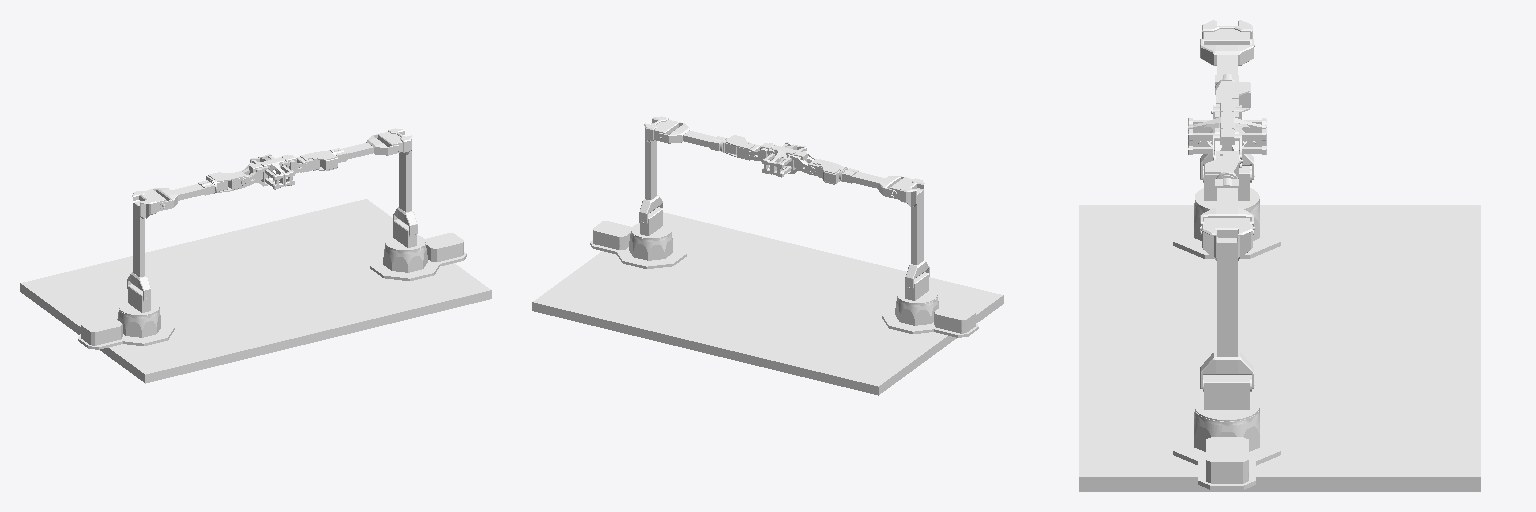
--- Render facts (derived) ---
Views: 3 orthographic renders of the robot side by side, from view 1: azimuth 30°, elevation 25°; view 2: azimuth 150°, elevation 25°; view 3: azimuth 270°, elevation 25°.
Model converted_robot with 43 links and 42 joints (16 revolute, 26 fixed), rooted at world, posed all joints at 0.
Links seen in each view (by area): view 1: table, vx300s_right, vx300s_left, vx300s_left/upper_arm_link, vx300s_right/upper_arm_link, vx300s_left/upper_forearm_link, vx300s_right/upper_forearm_link, vx300s_right/shoulder_link, vx300s_left/shoulder_link, vx300s_right/lower_forearm_link, vx300s_left/lower_forearm_link; view 2: table, vx300s_right, vx300s_left, vx300s_left/upper_arm_link, vx300s_right/upper_arm_link, vx300s_right/upper_forearm_link, vx300s_left/upper_forearm_link, vx300s_right/shoulder_link, vx300s_left/shoulder_link, vx300s_right/lower_forearm_link, vx300s_left/lower_forearm_link; view 3: table, vx300s_right, vx300s_right/upper_arm_link, vx300s_right/shoulder_link, vx300s_left, vx300s_left/gripper_link, vx300s_left/upper_arm_link, vx300s_left/upper_forearm_link, vx300s_right/upper_forearm_link, vx300s_left/shoulder_link, vx300s_right/lower_forearm_link, vx300s_left/lower_forearm_link (+1 smaller).
Link boxes in pixels (x1,y1,x2,y2): table: (20,199,491,383); vx300s_right: (370,233,466,280); vx300s_left: (78,308,174,349); vx300s_left/upper_arm_link: (127,189,166,300); vx300s_right/upper_arm_link: (377,128,417,235); vx300s_left/upper_forearm_link: (150,180,214,209); vx300s_right/upper_forearm_link: (333,134,397,162); vx300s_right/shoulder_link: (385,219,425,250); vx300s_left/shoulder_link: (119,284,159,315); vx300s_right/lower_forearm_link: (296,150,337,172); vx300s_left/lower_forearm_link: (206,171,248,193); table: (532,212,1003,395); vx300s_right: (590,221,686,268); vx300s_left: (882,296,978,337); vx300s_left/upper_arm_link: (890,177,929,288); vx300s_right/upper_arm_link: (639,116,678,223); vx300s_right/upper_forearm_link: (659,121,723,150); vx300s_left/upper_forearm_link: (842,168,906,197); vx300s_right/shoulder_link: (631,207,671,238); vx300s_left/shoulder_link: (897,272,937,303); vx300s_right/lower_forearm_link: (720,135,760,160); vx300s_left/lower_forearm_link: (808,159,847,184); table: (1079,205,1480,491); vx300s_right: (1173,409,1280,489); vx300s_right/upper_arm_link: (1200,218,1254,388); vx300s_right/shoulder_link: (1195,375,1259,421); vx300s_left: (1173,200,1280,258); vx300s_left/gripper_link: (1188,111,1266,154); vx300s_left/upper_arm_link: (1200,20,1254,179); vx300s_left/upper_forearm_link: (1200,39,1253,94); vx300s_right/upper_forearm_link: (1200,175,1253,234); vx300s_left/shoulder_link: (1195,166,1259,209); vx300s_right/lower_forearm_link: (1204,151,1242,190); vx300s_left/lower_forearm_link: (1211,78,1250,113).
Bounding box of the posed robot: 1.33 × 0.762 × 0.4923 m (x, y, z).
Meshes: 12 distinct files referenced, 23 mesh visuals loaded (12 binary STL).

robot.urdf — converted_robot:
<?xml version="1.0" ?>
<robot name="converted_robot">
   <!--generated with mjcf_urdf_simple_converter (https://github.com/Yasu31/mjcf_urdf_simple_converter)-->
   <link name="world">
      <inertial>
         <origin xyz="0.0 0.0 0.0" rpy="0.0 0.0 0.0"/>
         <mass value="0.0"/>
         <inertia ixx="0.0" iyy="0.0" izz="0.0" ixy="0" ixz="0" iyz="0"/>
      </inertial>
   </link>
   <link name="table">
      <inertial>
         <origin xyz="0.0 0.0 -0.015000000000000001" rpy="3.141592653589793 -1.5707963267948966 0.0"/>
         <mass value="27.870910883789055"/>
         <inertia ixx="4.800979286633" iyy="3.4544798400153813" izz="1.3506800832501862" ixy="0" ixz="0" iyz="0"/>
      </inertial>
      <visual name="tabletop">
         <origin xyz="0.0 0.0 -0.015000000000000001" rpy="3.141592653589793 -1.5707963267948966 0.0"/>
         <geometry>
            <mesh filename="meshes/converted_tabletop.stl"/>
         </geometry>
         <material name="white"/>
      </visual>
   </link>
   <joint type="fixed" name="world2table_fixed">
      <parent link="world"/>
      <child link="table"/>
      <origin xyz="0.0 0.6 0.0" rpy="0.0 0.0 0.0"/>
   </joint>
   <link name="midair">
      <inertial>
         <origin xyz="0.0 0.6 0.2" rpy="0.0 0.0 0.0"/>
         <mass value="0.0"/>
         <inertia ixx="0.0" iyy="0.0" izz="0.0" ixy="0" ixz="0" iyz="0"/>
      </inertial>
   </link>
   <joint type="fixed" name="world2midair_fixed">
      <parent link="world"/>
      <child link="midair"/>
      <origin xyz="0.0 0.6 0.2" rpy="0.0 0.0 0.0"/>
   </joint>
   <link name="vx300s_left">
      <inertial>
         <origin xyz="-0.03784382902588578 2.8602218040311562e-08 0.02913398715850308" rpy="0.0 -1.542175771520014 3.141592653589793"/>
         <mass value="2.0847071932290793"/>
         <inertia ixx="0.012833192082346331" iyy="0.010945761787034795" izz="0.003713297010020567" ixy="0" ixz="0" iyz="0"/>
      </inertial>
      <visual name="vx300s_1_base">
         <origin xyz="-0.03784382902588578 2.8602218040311562e-08 0.02913398715850308" rpy="0.0 -1.542175771520014 3.141592653589793"/>
         <geometry>
            <mesh filename="meshes/converted_vx300s_1_base.stl"/>
         </geometry>
         <material name="white"/>
      </visual>
   </link>
   <joint type="fixed" name="world2vx300s_left_fixed">
      <parent link="world"/>
      <child link="vx300s_left"/>
      <origin xyz="-0.469 0.5 0.0" rpy="0.0 0.0 0.0"/>
   </joint>
   <link name="vx300s_left/shoulder_link">
      <inertial>
         <origin xyz="0.000259233 -3.3552e-06 0.0116129" rpy="1.5700255645350394 -1.4773483355619266 -3.140821891329936"/>
         <mass value="0.798614"/>
         <inertia ixx="0.00120156" iyy="0.00113744" izz="0.0009388" ixy="0" ixz="0" iyz="0"/>
      </inertial>
      <visual name="vx300s_2_shoulder">
         <origin xyz="0.0006325719563753528 7.750435013387896e-11 0.02039145786401413" rpy="-1.5707963267948966 -1.5707963267948966 0.0"/>
         <geometry>
            <mesh filename="meshes/converted_vx300s_2_shoulder.stl"/>
         </geometry>
         <material name="white"/>
      </visual>
   </link>
   <link name="vx300s_left/waist_jointbody">
      <inertial>
         <origin xyz="0.0 0.0 0.0" rpy="0.0 0.0 0.0"/>
         <mass value="0.001"/>
         <inertia ixx="1e-09" iyy="1e-09" izz="1e-09" ixy="0" ixz="0" iyz="0"/>
      </inertial>
   </link>
   <joint type="revolute" name="vx300s_left/waist">
      <parent link="vx300s_left"/>
      <child link="vx300s_left/waist_jointbody"/>
      <origin xyz="0.0 0.0 0.079" rpy="0.0 0.0 0.0"/>
      <axis xyz="0.0 0.0 1.0"/>
      <limit lower="-3.14158" upper="3.14158" effort="100" velocity="100"/>
   </joint>
   <joint type="fixed" name="vx300s_left/waist_offset">
      <parent link="vx300s_left/waist_jointbody"/>
      <child link="vx300s_left/shoulder_link"/>
      <origin xyz="-0.0 -0.0 -0.0" rpy="0.0 0.0 0.0"/>
   </joint>
   <link name="vx300s_left/upper_arm_link">
      <inertial>
         <origin xyz="0.0206949 4e-10 0.226459" rpy="0.0 -0.14582079239240509 3.141592653589793"/>
         <mass value="0.792592"/>
         <inertia ixx="0.00911338" iyy="0.008925" izz="0.000759317" ixy="0" ixz="0" iyz="0"/>
      </inertial>
      <visual name="vx300s_3_upper_arm">
         <origin xyz="0.01879484718495746 1.0688876592918973e-09 0.20381388688857144" rpy="0.0 -0.1374703277880469 3.141592653589793"/>
         <geometry>
            <mesh filename="meshes/converted_vx300s_3_upper_arm.stl"/>
         </geometry>
         <material name="white"/>
      </visual>
   </link>
   <link name="vx300s_left/shoulder_jointbody">
      <inertial>
         <origin xyz="0.0 0.0 0.0" rpy="0.0 0.0 0.0"/>
         <mass value="0.001"/>
         <inertia ixx="1e-09" iyy="1e-09" izz="1e-09" ixy="0" ixz="0" iyz="0"/>
      </inertial>
   </link>
   <joint type="revolute" name="vx300s_left/shoulder">
      <parent link="vx300s_left/shoulder_link"/>
      <child link="vx300s_left/shoulder_jointbody"/>
      <origin xyz="0.0 0.0 0.04805" rpy="0.0 0.0 0.0"/>
      <axis xyz="0.0 1.0 0.0"/>
      <limit lower="-1.85005" upper="1.25664" effort="100" velocity="100"/>
   </joint>
   <joint type="fixed" name="vx300s_left/shoulder_offset">
      <parent link="vx300s_left/shoulder_jointbody"/>
      <child link="vx300s_left/upper_arm_link"/>
      <origin xyz="-0.0 -0.0 -0.0" rpy="0.0 0.0 0.0"/>
   </joint>
   <link name="vx300s_left/upper_forearm_link">
      <inertial>
         <origin xyz="0.105723 0.0 0.0" rpy="1.1374668575171039 -1.5553008182372066 2.0198960909557155"/>
         <mass value="0.322228"/>
         <inertia ixx="0.00144107" iyy="0.00134228" izz="0.000152047" ixy="0" ixz="0" iyz="0"/>
      </inertial>
      <visual name="vx300s_4_upper_forearm">
         <origin xyz="0.09150298272232402 4.669695453248377e-08 5.3351891878143013e-08" rpy="1.7079488359161843e-06 -1.5707947270180007 -3.1415926535509184"/>
         <geometry>
            <mesh filename="meshes/converted_vx300s_4_upper_forearm.stl"/>
         </geometry>
         <material name="white"/>
      </visual>
   </link>
   <link name="vx300s_left/elbow_jointbody">
      <inertial>
         <origin xyz="0.0 0.0 0.0" rpy="0.0 0.0 0.0"/>
         <mass value="0.001"/>
         <inertia ixx="1e-09" iyy="1e-09" izz="1e-09" ixy="0" ixz="0" iyz="0"/>
      </inertial>
   </link>
   <joint type="revolute" name="vx300s_left/elbow">
      <parent link="vx300s_left/upper_arm_link"/>
      <child link="vx300s_left/elbow_jointbody"/>
      <origin xyz="0.05955 0.0 0.3" rpy="0.0 0.0 0.0"/>
      <axis xyz="0.0 1.0 0.0"/>
      <limit lower="-1.76278" upper="1.6057" effort="100" velocity="100"/>
   </joint>
   <joint type="fixed" name="vx300s_left/elbow_offset">
      <parent link="vx300s_left/elbow_jointbody"/>
      <child link="vx300s_left/upper_forearm_link"/>
      <origin xyz="-0.0 -0.0 -0.0" rpy="0.0 0.0 0.0"/>
   </joint>
   <link name="vx300s_left/lower_forearm_link">
      <inertial>
         <origin xyz="0.0513477 0.00680462 0.0" rpy="0.22582711793583052 1.5707963267948966 0.0"/>
         <mass value="0.414823"/>
         <inertia ixx="0.0005911" iyy="0.000546493" izz="0.000155707" ixy="0" ixz="0" iyz="0"/>
      </inertial>
      <visual name="vx300s_5_lower_forearm">
         <origin xyz="0.046863465778959855 0.006061610481320571 -3.606874328682953e-06" rpy="-1.7440697971477959 1.569683890548875 -1.9146386257440273"/>
         <geometry>
            <mesh filename="meshes/converted_vx300s_5_lower_forearm.stl"/>
         </geometry>
         <material name="white"/>
      </visual>
   </link>
   <link name="vx300s_left/forearm_roll_jointbody">
      <inertial>
         <origin xyz="0.0 0.0 0.0" rpy="0.0 0.0 0.0"/>
         <mass value="0.001"/>
         <inertia ixx="1e-09" iyy="1e-09" izz="1e-09" ixy="0" ixz="0" iyz="0"/>
      </inertial>
   </link>
   <joint type="revolute" name="vx300s_left/forearm_roll">
      <parent link="vx300s_left/upper_forearm_link"/>
      <child link="vx300s_left/forearm_roll_jointbody"/>
      <origin xyz="0.2 0.0 0.0" rpy="0.0 0.0 0.0"/>
      <axis xyz="1.0 0.0 0.0"/>
      <limit lower="-3.14158" upper="3.14158" effort="100" velocity="100"/>
   </joint>
   <joint type="fixed" name="vx300s_left/forearm_roll_offset">
      <parent link="vx300s_left/forearm_roll_jointbody"/>
      <child link="vx300s_left/lower_forearm_link"/>
      <origin xyz="-0.0 -0.0 -0.0" rpy="0.0 0.0 0.0"/>
   </joint>
   <link name="vx300s_left/wrist_link">
      <inertial>
         <origin xyz="0.046743 -7.6652e-06 0.010565" rpy="0.008277755597094094 -1.1517912606217704 3.138606936598997"/>
         <mass value="0.115395"/>
         <inertia ixx="5.45707e-05" iyy="4.63101e-05" izz="4.32692e-05" ixy="0" ixz="0" iyz="0"/>
      </inertial>
      <visual name="vx300s_6_wrist">
         <origin xyz="0.04164133231863641 -0.00016056442250253158 0.00784793199347111" rpy="0.0 -1.3314861466609826 3.141592653589793"/>
         <geometry>
            <mesh filename="meshes/converted_vx300s_6_wrist.stl"/>
         </geometry>
         <material name="white"/>
      </visual>
   </link>
   <link name="vx300s_left/wrist_angle_jointbody">
      <inertial>
         <origin xyz="0.0 0.0 0.0" rpy="0.0 0.0 0.0"/>
         <mass value="0.001"/>
         <inertia ixx="1e-09" iyy="1e-09" izz="1e-09" ixy="0" ixz="0" iyz="0"/>
      </inertial>
   </link>
   <joint type="revolute" name="vx300s_left/wrist_angle">
      <parent link="vx300s_left/lower_forearm_link"/>
      <child link="vx300s_left/wrist_angle_jointbody"/>
      <origin xyz="0.1 0.0 0.0" rpy="0.0 0.0 0.0"/>
      <axis xyz="0.0 1.0 0.0"/>
      <limit lower="-1.8675" upper="2.23402" effort="100" velocity="100"/>
   </joint>
   <joint type="fixed" name="vx300s_left/wrist_angle_offset">
      <parent link="vx300s_left/wrist_angle_jointbody"/>
      <child link="vx300s_left/wrist_link"/>
      <origin xyz="-0.0 -0.0 -0.0" rpy="0.0 0.0 0.0"/>
   </joint>
   <link name="vx300s_left/gripper_link">
      <inertial>
         <origin xyz="0.0395662 -2.56311e-07 0.00400649" rpy="1.5696062015365904 -1.0024837628865453 0.000953641922889048"/>
         <mass value="0.251652"/>
         <inertia ixx="0.000689546" iyy="0.000650316" izz="0.000468142" ixy="0" ixz="0" iyz="0"/>
      </inertial>
      <visual name="vx300s_7_gripper">
         <origin xyz="0.019865668160067514 -7.005736523051254e-09 0.010150989601905417" rpy="0.5043852668531259 0.0 1.5707963267948966"/>
         <geometry>
            <mesh filename="meshes/converted_vx300s_7_gripper.stl"/>
         </geometry>
         <material name="white"/>
      </visual>
      <visual name="vx300s_9_gripper_bar">
         <origin xyz="0.049328257075604384 -4.4734997897412666e-07 -0.0012095709992750946" rpy="1.570620783254074 -0.19393160010183896 -3.1415756706681535"/>
         <geometry>
            <mesh filename="meshes/converted_vx300s_9_gripper_bar.stl"/>
         </geometry>
         <material name="white"/>
      </visual>
   </link>
   <link name="vx300s_left/wrist_rotate_jointbody">
      <inertial>
         <origin xyz="0.0 0.0 0.0" rpy="0.0 0.0 0.0"/>
         <mass value="0.001"/>
         <inertia ixx="1e-09" iyy="1e-09" izz="1e-09" ixy="0" ixz="0" iyz="0"/>
      </inertial>
   </link>
   <joint type="revolute" name="vx300s_left/wrist_rotate">
      <parent link="vx300s_left/wrist_link"/>
      <child link="vx300s_left/wrist_rotate_jointbody"/>
      <origin xyz="0.069744 0.0 0.0" rpy="0.0 0.0 0.0"/>
      <axis xyz="1.0 0.0 0.0"/>
      <limit lower="-3.14158" upper="3.14158" effort="100" velocity="100"/>
   </joint>
   <joint type="fixed" name="vx300s_left/wrist_rotate_offset">
      <parent link="vx300s_left/wrist_rotate_jointbody"/>
      <child link="vx300s_left/gripper_link"/>
      <origin xyz="-0.0 -0.0 -0.0" rpy="0.0 0.0 0.0"/>
   </joint>
   <link name="vx300s_left/camera_focus">
      <inertial>
         <origin xyz="0.15 0.0 0.01" rpy="0.0 0.0 0.0"/>
         <mass value="0.0"/>
         <inertia ixx="0.0" iyy="0.0" izz="0.0" ixy="0" ixz="0" iyz="0"/>
      </inertial>
   </link>
   <joint type="fixed" name="vx300s_left/gripper_link2vx300s_left/camera_focus_fixed">
      <parent link="vx300s_left/gripper_link"/>
      <child link="vx300s_left/camera_focus"/>
      <origin xyz="0.15 0.0 0.01" rpy="0.0 0.0 0.0"/>
   </joint>
   <link name="vx300s_left/gripper_prop_link">
      <inertial>
         <origin xyz="0.002378 2.85e-08 0.0" rpy="2.229034153159594 0.0 3.141592653589793"/>
         <mass value="0.008009"/>
         <inertia ixx="4.2979e-06" iyy="2.8868e-06" izz="1.5314e-06" ixy="0" ixz="0" iyz="0"/>
      </inertial>
      <visual name="vx300s_8_gripper_prop">
         <origin xyz="0.0 0.0002406316223018793 -0.0005006405808746677" rpy="-0.055920927342721694 0.0 3.141592653589793"/>
         <geometry>
            <mesh filename="meshes/converted_vx300s_8_gripper_prop.stl"/>
         </geometry>
         <material name="white"/>
      </visual>
   </link>
   <joint type="fixed" name="vx300s_left/gripper_link2vx300s_left/gripper_prop_link_fixed">
      <parent link="vx300s_left/gripper_link"/>
      <child link="vx300s_left/gripper_prop_link"/>
      <origin xyz="0.0485 0.0 0.0" rpy="0.0 0.0 0.0"/>
   </joint>
   <link name="vx300s_left/left_finger_link">
      <inertial>
         <origin xyz="0.017344 -0.0060692 0.0" rpy="1.5707963267948966 2.220446049250313e-16 -1.7642899709575044"/>
         <mass value="0.034796"/>
         <inertia ixx="2.48003e-05" iyy="1.417e-05" izz="1.20797e-05" ixy="0" ixz="0" iyz="0"/>
      </inertial>
      <visual name="vx300s_10_gripper_finger_left">
         <origin xyz="0.024758826833880605 -0.013231640423985176 0.002021349057495323" rpy="-1.266740490927044 -0.014276180225681001 -1.6709736312279375"/>
         <geometry>
            <mesh filename="meshes/converted_vx300s_10_gripper_finger_left.stl"/>
         </geometry>
         <material name="white"/>
      </visual>
   </link>
   <link name="vx300s_left/left_finger_jointbody">
      <inertial>
         <origin xyz="0.0 0.0 0.0" rpy="0.0 0.0 0.0"/>
         <mass value="0.001"/>
         <inertia ixx="1e-09" iyy="1e-09" izz="1e-09" ixy="0" ixz="0" iyz="0"/>
      </inertial>
   </link>

    <!-- [MODIFIED] Replaced fixed gripper joints with revolute and mimic joints, ensuring correct child link -->
    <joint type="revolute" name="vx300s_left/gripper_joint">
        <parent link="vx300s_left/gripper_link"/>
        <child link="vx300s_left/left_finger_jointbody"/>
        <origin xyz="0.0687 0.0 0.0" rpy="0.0 0.0 0.0"/>
        <axis xyz="0 0 1"/>
        <limit lower="-0.03" upper="0.03" effort="10" velocity="1.0"/>
    </joint>

    <joint name="vx300s_left/right_finger_mimic_joint" type="revolute">
        <parent link="vx300s_left/gripper_link"/>
        <child link="vx300s_left/right_finger_jointbody"/>
        <origin xyz="0.0687 0.0 0.0" rpy="0.0 0.0 0.0"/>
        <axis xyz="0 0 1"/>
        <limit lower="-0.03" upper="0.03" effort="10" velocity="1.0"/>
        <mimic joint="vx300s_left/gripper_joint" multiplier="-1" offset="0"/>
    </joint>
    <!-- End of modification for left gripper -->

   <joint type="fixed" name="vx300s_left/left_finger_offset">
      <parent link="vx300s_left/left_finger_jointbody"/>
      <child link="vx300s_left/left_finger_link"/>
      <origin xyz="-0.0 -0.0 -0.0" rpy="0.0 0.0 0.0"/>
   </joint>
   <link name="vx300s_left/right_finger_link">
      <inertial>
         <origin xyz="0.017344 0.0060692 0.0" rpy="-1.5707963267948968 0.0 -1.7642678806504266"/>
         <mass value="0.034796"/>
         <inertia ixx="2.48002e-05" iyy="1.417e-05" izz="1.20798e-05" ixy="0" ixz="0" iyz="0"/>
      </inertial>
      <visual name="vx300s_10_gripper_finger_right">
         <origin xyz="0.024759026771782794 0.01323824786246524 0.0021447619367371564" rpy="-1.2670945657039128 0.011104510487408792 -1.4706258573054107"/>
         <geometry>
            <mesh filename="meshes/converted_vx300s_10_gripper_finger_right.stl"/>
         </geometry>
         <material name="white"/>
      </visual>
   </link>
   <link name="vx300s_left/right_finger_jointbody">
      <inertial>
         <origin xyz="0.0 0.0 0.0" rpy="0.0 0.0 0.0"/>
         <mass value="0.001"/>
         <inertia ixx="1e-09" iyy="1e-09" izz="1e-09" ixy="0" ixz="0" iyz="0"/>
      </inertial>
   </link>
   <joint type="fixed" name="vx300s_left/right_finger_offset">
      <parent link="vx300s_left/right_finger_jointbody"/>
      <child link="vx300s_left/right_finger_link"/>
      <origin xyz="-0.0 -0.0 -0.0" rpy="0.0 0.0 0.0"/>
   </joint>
   <link name="vx300s_right">
      <inertial>
         <origin xyz="-0.03784382902588578 2.8602218040311562e-08 0.02913398715850308" rpy="0.0 -1.542175771520014 3.141592653589793"/>
         <mass value="2.0847071932290793"/>
         <inertia ixx="0.012833192082346331" iyy="0.010945761787034795" izz="0.003713297010020567" ixy="0" ixz="0" iyz="0"/>
      </inertial>
      <visual name="vx300s_1_base">
         <origin xyz="-0.03784382902588578 2.8602218040311562e-08 0.02913398715850308" rpy="0.0 -1.542175771520014 3.141592653589793"/>
         <geometry>
            <mesh filename="meshes/converted_vx300s_1_base.stl"/>
         </geometry>
         <material name="white"/>
      </visual>
   </link>
   <joint type="fixed" name="world2vx300s_right_fixed">
      <parent link="world"/>
      <child link="vx300s_right"/>
      <origin xyz="0.469 0.5 0.0" rpy="0.0 0.0 -3.1415853071697932"/>
   </joint>
   <link name="vx300s_right/shoulder_link">
      <inertial>
         <origin xyz="0.000259233 -3.3552e-06 0.0116129" rpy="1.5700255645350394 -1.4773483355619266 -3.140821891329936"/>
         <mass value="0.798614"/>
         <inertia ixx="0.00120156" iyy="0.00113744" izz="0.0009388" ixy="0" ixz="0" iyz="0"/>
      </inertial>
      <visual name="vx300s_2_shoulder">
         <origin xyz="0.0006325719563753528 7.750435013387896e-11 0.02039145786401413" rpy="-1.5707963267948966 -1.5707963267948966 0.0"/>
         <geometry>
            <mesh filename="meshes/converted_vx300s_2_shoulder.stl"/>
         </geometry>
         <material name="white"/>
      </visual>
   </link>
   <link name="vx300s_right/waist_jointbody">
      <inertial>
         <origin xyz="0.0 0.0 0.0" rpy="0.0 0.0 0.0"/>
         <mass value="0.001"/>
         <inertia ixx="1e-09" iyy="1e-09" izz="1e-09" ixy="0" ixz="0" iyz="0"/>
      </inertial>
   </link>
   <joint type="revolute" name="vx300s_right/waist">
      <parent link="vx300s_right"/>
      <child link="vx300s_right/waist_jointbody"/>
      <origin xyz="0.0 0.0 0.079" rpy="0.0 0.0 0.0"/>
      <axis xyz="0.0 0.0 1.0"/>
      <limit lower="-3.14158" upper="3.14158" effort="100" velocity="100"/>
   </joint>
   <joint type="fixed" name="vx300s_right/waist_offset">
      <parent link="vx300s_right/waist_jointbody"/>
      <child link="vx300s_right/shoulder_link"/>
      <origin xyz="-0.0 -0.0 -0.0" rpy="0.0 0.0 0.0"/>
   </joint>
   <link name="vx300s_right/upper_arm_link">
      <inertial>
         <origin xyz="0.0206949 4e-10 0.226459" rpy="0.0 -0.14582079239240509 3.141592653589793"/>
         <mass value="0.792592"/>
         <inertia ixx="0.00911338" iyy="0.008925" izz="0.000759317" ixy="0" ixz="0" iyz="0"/>
      </inertial>
      <visual name="vx300s_3_upper_arm">
         <origin xyz="0.01879484718495746 1.0688876592918973e-09 0.20381388688857144" rpy="0.0 -0.1374703277880469 3.141592653589793"/>
         <geometry>
            <mesh filename="meshes/converted_vx300s_3_upper_arm.stl"/>
         </geometry>
         <material name="white"/>
      </visual>
   </link>
   <link name="vx300s_right/shoulder_jointbody">
      <inertial>
         <origin xyz="0.0 0.0 0.0" rpy="0.0 0.0 0.0"/>
         <mass value="0.001"/>
         <inertia ixx="1e-09" iyy="1e-09" izz="1e-09" ixy="0" ixz="0" iyz="0"/>
      </inertial>
   </link>
   <joint type="revolute" name="vx300s_right/shoulder">
      <parent link="vx300s_right/shoulder_link"/>
      <child link="vx300s_right/shoulder_jointbody"/>
      <origin xyz="0.0 0.0 0.04805" rpy="0.0 0.0 0.0"/>
      <axis xyz="0.0 1.0 0.0"/>
      <limit lower="-1.85005" upper="1.25664" effort="100" velocity="100"/>
   </joint>
   <joint type="fixed" name="vx300s_right/shoulder_offset">
      <parent link="vx300s_right/shoulder_jointbody"/>
      <child link="vx300s_right/upper_arm_link"/>
      <origin xyz="-0.0 -0.0 -0.0" rpy="0.0 0.0 0.0"/>
   </joint>
   <link name="vx300s_right/upper_forearm_link">
      <inertial>
         <origin xyz="0.105723 0.0 0.0" rpy="1.1374668575171039 -1.5553008182372066 2.0198960909557155"/>
         <mass value="0.322228"/>
         <inertia ixx="0.00144107" iyy="0.00134228" izz="0.000152047" ixy="0" ixz="0" iyz="0"/>
      </inertial>
      <visual name="vx300s_4_upper_forearm">
         <origin xyz="0.09150298272232402 4.669695453248377e-08 5.3351891878143013e-08" rpy="1.7079488359161843e-06 -1.5707947270180007 -3.1415926535509184"/>
         <geometry>
            <mesh filename="meshes/converted_vx300s_4_upper_forearm.stl"/>
         </geometry>
         <material name="white"/>
      </visual>
   </link>
   <link name="vx300s_right/elbow_jointbody">
      <inertial>
         <origin xyz="0.0 0.0 0.0" rpy="0.0 0.0 0.0"/>
         <mass value="0.001"/>
         <inertia ixx="1e-09" iyy="1e-09" izz="1e-09" ixy="0" ixz="0" iyz="0"/>
      </inertial>
   </link>
   <joint type="revolute" name="vx300s_right/elbow">
      <parent link="vx300s_right/upper_arm_link"/>
      <child link="vx300s_right/elbow_jointbody"/>
      <origin xyz="0.05955 0.0 0.3" rpy="0.0 0.0 0.0"/>
      <axis xyz="0.0 1.0 0.0"/>
      <limit lower="-1.76278" upper="1.6057" effort="100" velocity="100"/>
   </joint>
   <joint type="fixed" name="vx300s_right/elbow_offset">
      <parent link="vx300s_right/elbow_jointbody"/>
      <child link="vx300s_right/upper_forearm_link"/>
      <origin xyz="-0.0 -0.0 -0.0" rpy="0.0 0.0 0.0"/>
   </joint>
   <link name="vx300s_right/lower_forearm_link">
      <inertial>
         <origin xyz="0.0513477 0.00680462 0.0" rpy="0.22582711793583052 1.5707963267948966 0.0"/>
         <mass value="0.414823"/>
         <inertia ixx="0.0005911" iyy="0.000546493" izz="0.000155707" ixy="0" ixz="0" iyz="0"/>
      </inertial>
      <visual name="vx300s_5_lower_forearm">
         <origin xyz="0.046863465778959855 0.006061610481320571 -3.606874328682953e-06" rpy="-1.7440697971477959 1.569683890548875 -1.9146386257440273"/>
         <geometry>
            <mesh filename="meshes/converted_vx300s_5_lower_forearm.stl"/>
         </geometry>
         <material name="white"/>
      </visual>
   </link>
   <link name="vx300s_right/forearm_roll_jointbody">
      <inertial>
         <origin xyz="0.0 0.0 0.0" rpy="0.0 0.0 0.0"/>
         <mass value="0.001"/>
         <inertia ixx="1e-09" iyy="1e-09" izz="1e-09" ixy="0" ixz="0" iyz="0"/>
      </inertial>
   </link>
   <joint type="revolute" name="vx300s_right/forearm_roll">
      <parent link="vx300s_right/upper_forearm_link"/>
      <child link="vx300s_right/forearm_roll_jointbody"/>
      <origin xyz="0.2 0.0 0.0" rpy="0.0 0.0 0.0"/>
      <axis xyz="1.0 0.0 0.0"/>
      <limit lower="-3.14158" upper="3.14158" effort="100" velocity="100"/>
   </joint>
   <joint type="fixed" name="vx300s_right/forearm_roll_offset">
      <parent link="vx300s_right/forearm_roll_jointbody"/>
      <child link="vx300s_right/lower_forearm_link"/>
      <origin xyz="-0.0 -0.0 -0.0" rpy="0.0 0.0 0.0"/>
   </joint>
   <link name="vx300s_right/wrist_link">
      <inertial>
         <origin xyz="0.046743 -7.6652e-06 0.010565" rpy="0.008277755597094094 -1.1517912606217704 3.138606936598997"/>
         <mass value="0.115395"/>
         <inertia ixx="5.45707e-05" iyy="4.63101e-05" izz="4.32692e-05" ixy="0" ixz="0" iyz="0"/>
      </inertial>
      <visual name="vx300s_6_wrist">
         <origin xyz="0.04164133231863641 -0.00016056442250253158 0.00784793199347111" rpy="0.0 -1.3314861466609826 3.141592653589793"/>
         <geometry>
            <mesh filename="meshes/converted_vx300s_6_wrist.stl"/>
         </geometry>
         <material name="white"/>
      </visual>
   </link>
   <link name="vx300s_right/wrist_angle_jointbody">
      <inertial>
         <origin xyz="0.0 0.0 0.0" rpy="0.0 0.0 0.0"/>
         <mass value="0.001"/>
         <inertia ixx="1e-09" iyy="1e-09" izz="1e-09" ixy="0" ixz="0" iyz="0"/>
      </inertial>
   </link>
   <joint type="revolute" name="vx300s_right/wrist_angle">
      <parent link="vx300s_right/lower_forearm_link"/>
      <child link="vx300s_right/wrist_angle_jointbody"/>
      <origin xyz="0.1 0.0 0.0" rpy="0.0 0.0 0.0"/>
      <axis xyz="0.0 1.0 0.0"/>
      <limit lower="-1.8675" upper="2.23402" effort="100" velocity="100"/>
   </joint>
   <joint type="fixed" name="vx300s_right/wrist_angle_offset">
      <parent link="vx300s_right/wrist_angle_jointbody"/>
      <child link="vx300s_right/wrist_link"/>
      <origin xyz="-0.0 -0.0 -0.0" rpy="0.0 0.0 0.0"/>
   </joint>
   <link name="vx300s_right/gripper_link">
      <inertial>
         <origin xyz="0.0395662 -2.56311e-07 0.00400649" rpy="1.5696062015365904 -1.0024837628865453 0.000953641922889048"/>
         <mass value="0.251652"/>
         <inertia ixx="0.000689546" iyy="0.000650316" izz="0.000468142" ixy="0" ixz="0" iyz="0"/>
      </inertial>
      <visual name="vx300s_7_gripper">
         <origin xyz="0.019865668160067514 -7.005736523051254e-09 0.010150989601905417" rpy="0.5043852668531259 0.0 1.5707963267948966"/>
         <geometry>
            <mesh filename="meshes/converted_vx300s_7_gripper.stl"/>
         </geometry>
         <material name="white"/>
      </visual>
      <visual name="vx300s_9_gripper_bar">
         <origin xyz="0.049328257075604384 -4.4734997897412666e-07 -0.0012095709992750946" rpy="1.570620783254074 -0.19393160010183896 -3.1415756706681535"/>
         <geometry>
            <mesh filename="meshes/converted_vx300s_9_gripper_bar.stl"/>
         </geometry>
         <material name="white"/>
      </visual>
   </link>
   <link name="vx300s_right/wrist_rotate_jointbody">
      <inertial>
         <origin xyz="0.0 0.0 0.0" rpy="0.0 0.0 0.0"/>
         <mass value="0.001"/>
         <inertia ixx="1e-09" iyy="1e-09" izz="1e-09" ixy="0" ixz="0" iyz="0"/>
      </inertial>
   </link>
   <joint type="revolute" name="vx300s_right/wrist_rotate">
      <parent link="vx300s_right/wrist_link"/>
      <child link="vx300s_right/wrist_rotate_jointbody"/>
      <origin xyz="0.069744 0.0 0.0" rpy="0.0 0.0 0.0"/>
      <axis xyz="1.0 0.0 0.0"/>
      <limit lower="-3.14158" upper="3.14158" effort="100" velocity="100"/>
   </joint>
   <joint type="fixed" name="vx300s_right/wrist_rotate_offset">
      <parent link="vx300s_right/wrist_rotate_jointbody"/>
      <child link="vx300s_right/gripper_link"/>
      <origin xyz="-0.0 -0.0 -0.0" rpy="0.0 0.0 0.0"/>
   </joint>
   <link name="vx300s_right/camera_focus">
      <inertial>
         <origin xyz="0.15 0.0 0.01" rpy="0.0 0.0 0.0"/>
         <mass value="0.0"/>
         <inertia ixx="0.0" iyy="0.0" izz="0.0" ixy="0" ixz="0" iyz="0"/>
      </inertial>
   </link>
   <joint type="fixed" name="vx300s_right/gripper_link2vx300s_right/camera_focus_fixed">
      <parent link="vx300s_right/gripper_link"/>
      <child link="vx300s_right/camera_focus"/>
      <origin xyz="0.15 0.0 0.01" rpy="0.0 0.0 0.0"/>
   </joint>
   <link name="vx300s_right/gripper_prop_link">
      <inertial>
         <origin xyz="0.002378 2.85e-08 0.0" rpy="2.229034153159594 0.0 3.141592653589793"/>
         <mass value="0.008009"/>
         <inertia ixx="4.2979e-06" iyy="2.8868e-06" izz="1.5314e-06" ixy="0" ixz="0" iyz="0"/>
      </inertial>
      <visual name="vx300s_8_gripper_prop">
         <origin xyz="0.0 0.0002406316223018793 -0.0005006405808746677" rpy="-0.055920927342721694 0.0 3.141592653589793"/>
         <geometry>
            <mesh filename="meshes/converted_vx300s_8_gripper_prop.stl"/>
         </geometry>
         <material name="white"/>
      </visual>
   </link>
   <joint type="fixed" name="vx300s_right/gripper_link2vx300s_right/gripper_prop_link_fixed">
      <parent link="vx300s_right/gripper_link"/>
      <child link="vx300s_right/gripper_prop_link"/>
      <origin xyz="0.0485 0.0 0.0" rpy="0.0 0.0 0.0"/>
   </joint>
   <link name="vx300s_right/left_finger_link">
      <inertial>
         <origin xyz="0.017344 -0.0060692 0.0" rpy="1.5707963267948966 2.220446049250313e-16 -1.7642899709575044"/>
         <mass value="0.034796"/>
         <inertia ixx="2.48003e-05" iyy="1.417e-05" izz="1.20797e-05" ixy="0" ixz="0" iyz="0"/>
      </inertial>
      <visual name="vx300s_10_gripper_finger_left">
         <origin xyz="0.024758826833880605 -0.013231640423985176 0.002021349057495323" rpy="-1.266740490927044 -0.014276180225681001 -1.6709736312279375"/>
         <geometry>
            <mesh filename="meshes/converted_vx300s_10_gripper_finger_left.stl"/>
         </geometry>
         <material name="white"/>
      </visual>
   </link>
   <link name="vx300s_right/left_finger_jointbody">
      <inertial>
         <origin xyz="0.0 0.0 0.0" rpy="0.0 0.0 0.0"/>
         <mass value="0.001"/>
         <inertia ixx="1e-09" iyy="1e-09" izz="1e-09" ixy="0" ixz="0" iyz="0"/>
      </inertial>
   </link>
    
    <!-- [MODIFIED] Replaced fixed gripper joints with revolute and mimic joints, ensuring correct child link -->
    <joint type="revolute" name="vx300s_right/gripper_joint">
        <parent link="vx300s_right/gripper_link"/>
        <child link="vx300s_right/left_finger_jointbody"/>
        <origin xyz="0.0687 0.0 0.0" rpy="0.0 0.0 0.0"/>
        <axis xyz="0 0 1"/>
        <limit lower="-0.03" upper="0.03" effort="10" velocity="1.0"/>
    </joint>

    <joint name="vx300s_right/right_finger_mimic_joint" type="revolute">
        <parent link="vx300s_right/gripper_link"/>
        <child link="vx300s_right/right_finger_jointbody"/>
        <origin xyz="0.0687 0.0 0.0" rpy="0.0 0.0 0.0"/>
        <axis xyz="0 0 1"/>
        <limit lower="-0.03" upper="0.03" effort="10" velocity="1.0"/>
        <mimic joint="vx300s_right/gripper_joint" multiplier="-1" offset="0"/>
    </joint>
    <!-- End of modification for right gripper -->

   <joint type="fixed" name="vx300s_right/left_finger_offset">
      <parent link="vx300s_right/left_finger_jointbody"/>
      <child link="vx300s_right/left_finger_link"/>
      <origin xyz="-0.0 -0.0 -0.0" rpy="0.0 0.0 0.0"/>
   </joint>
   <link name="vx300s_right/right_finger_link">
      <inertial>
         <origin xyz="0.017344 0.0060692 0.0" rpy="-1.5707963267948968 0.0 -1.7642678806504266"/>
         <mass value="0.034796"/>
         <inertia ixx="2.48002e-05" iyy="1.417e-05" izz="1.20798e-05" ixy="0" ixz="0" iyz="0"/>
      </inertial>
      <visual name="vx300s_10_gripper_finger_right">
         <origin xyz="0.024759026771782794 0.01323824786246524 0.0021447619367371564" rpy="-1.2670945657039128 0.011104510487408792 -1.4706258573054107"/>
         <geometry>
            <mesh filename="meshes/converted_vx300s_10_gripper_finger_right.stl"/>
         </geometry>
         <material name="white"/>
      </visual>
   </link>
   <link name="vx300s_right/right_finger_jointbody">
      <inertial>
         <origin xyz="0.0 0.0 0.0" rpy="0.0 0.0 0.0"/>
         <mass value="0.001"/>
         <inertia ixx="1e-09" iyy="1e-09" izz="1e-09" ixy="0" ixz="0" iyz="0"/>
      </inertial>
   </link>
   <joint type="fixed" name="vx300s_right/right_finger_offset">
      <parent link="vx300s_right/right_finger_jointbody"/>
      <child link="vx300s_right/right_finger_link"/>
      <origin xyz="-0.0 -0.0 -0.0" rpy="0.0 0.0 0.0"/>
   </joint>
   <link name="box">
      <inertial>
         <origin xyz="0.0 0.0 0.0" rpy="0.0 0.0 0.0"/>
         <mass value="0.05"/>
         <inertia ixx="0.002" iyy="0.002" izz="0.002" ixy="0" ixz="0" iyz="0"/>
      </inertial>
   </link>
   <link name="red_box_joint_jointbody">
      <inertial>
         <origin xyz="0.0 0.0 0.0" rpy="0.0 0.0 0.0"/>
         <mass value="0.001"/>
         <inertia ixx="1e-09" iyy="1e-09" izz="1e-09" ixy="0" ixz="0" iyz="0"/>
      </inertial>
   </link>
   <joint type="fixed" name="red_box_joint">
      <parent link="world"/>
      <child link="red_box_joint_jointbody"/>
      <origin xyz="0.2 0.5 0.05" rpy="0.0 0.0 0.0"/>
   </joint>
   <joint type="fixed" name="red_box_joint_offset">
      <parent link="red_box_joint_jointbody"/>
      <child link="box"/>
      <origin xyz="-0.0 -0.0 -0.0" rpy="0.0 0.0 0.0"/>
   </joint>
   <material name="white">
      <color rgba="1 1 1 1"/>
   </material>
</robot>
